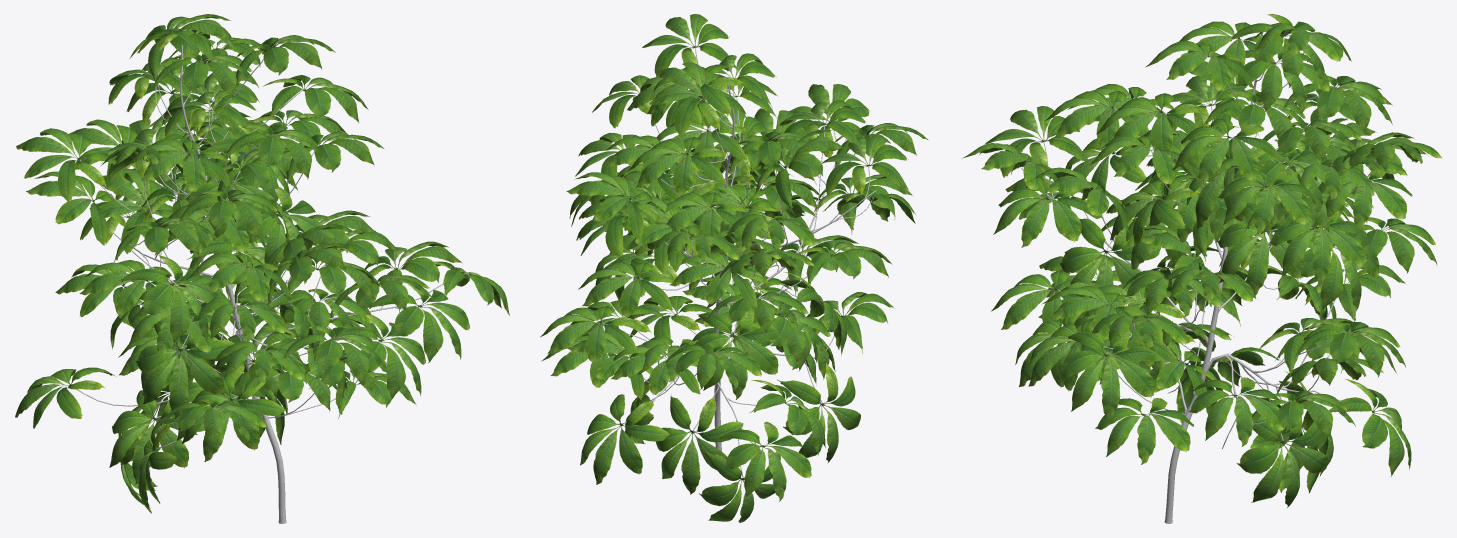
File: plant5.gltf
3 renders of one model, left to right at view 1: azimuth 30°, elevation 25°; view 2: azimuth 150°, elevation 25°; view 3: azimuth 270°, elevation 25°, orthographic. The views are drawn at different scales.
Visible parts, largest first — view 1: GS Forest young B 03; view 2: GS Forest young B 03; view 3: GS Forest young B 03.
Part boxes in pixels (bbox=[...]): GS Forest young B 03: bbox=[15, 14, 509, 523]; GS Forest young B 03: bbox=[540, 14, 928, 523]; GS Forest young B 03: bbox=[962, 14, 1441, 523].
Bounding box in the file's own units: 1.34 × 1.63 × 1.44.
